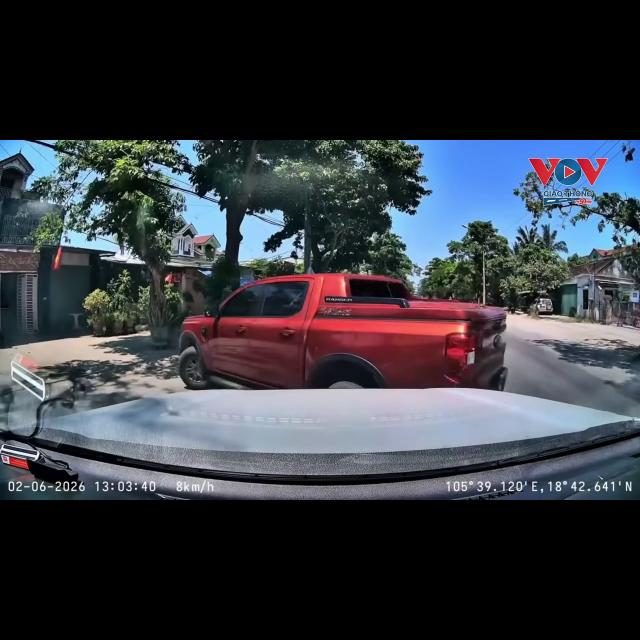car: (179, 274, 507, 390), (529, 298, 553, 314)
